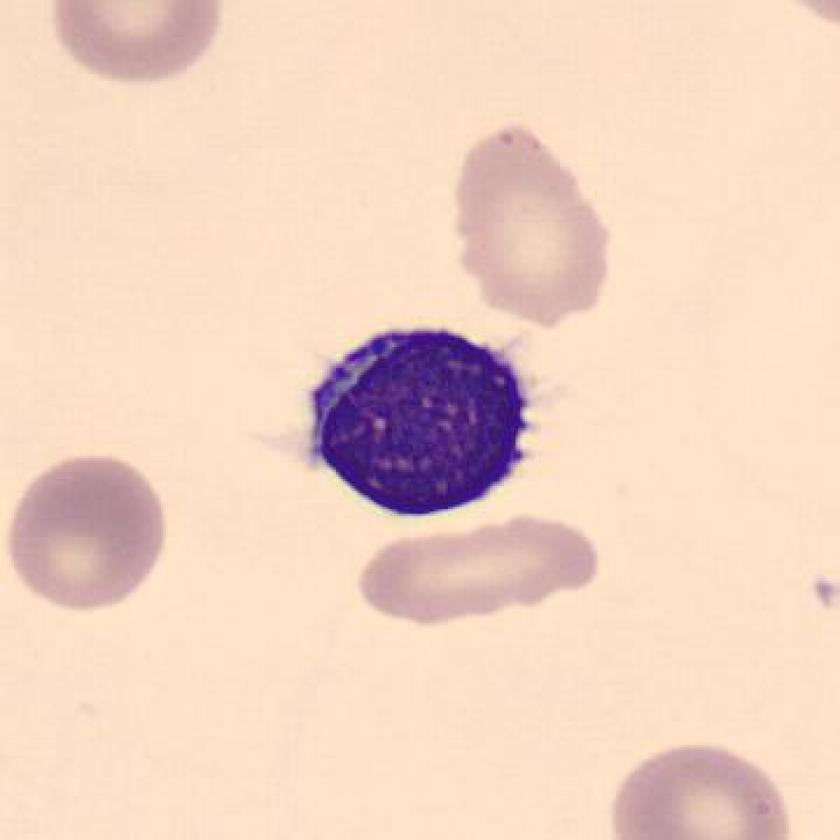lymphocyte: (288, 316, 547, 531)
